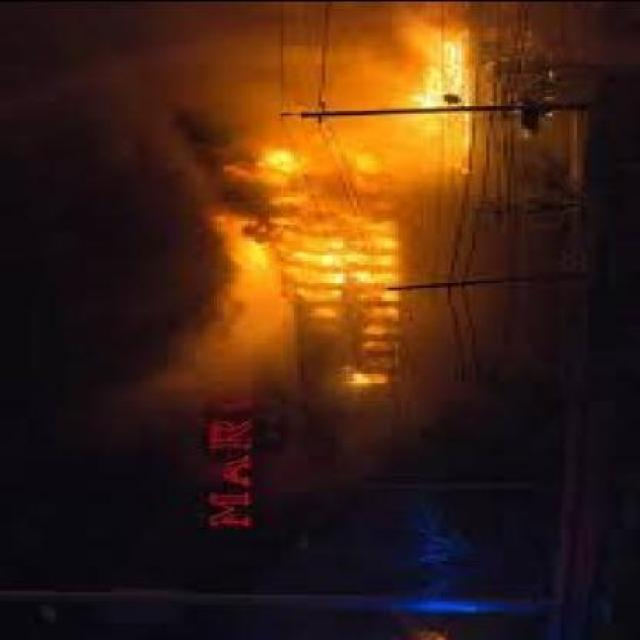Fire: (208, 17, 482, 394)
